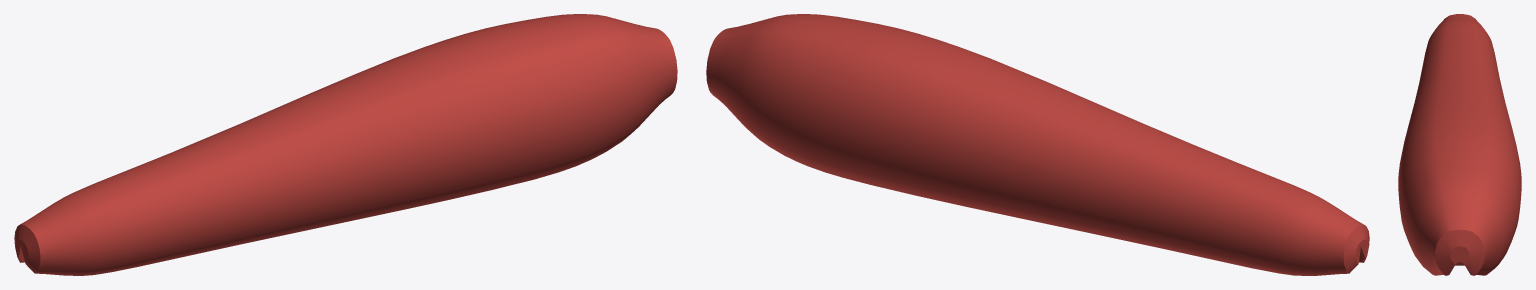
The model's file is chopper_2_lod2.glb.
3 renders of one model, left to right at view 1: azimuth 30°, elevation 25°; view 2: azimuth 150°, elevation 25°; view 3: azimuth 270°, elevation 25°, orthographic. The views are drawn at different scales.
Visible parts, largest first — view 1: chopper_2_lod2; view 2: chopper_2_lod2; view 3: chopper_2_lod2.
Part boxes in pixels (x1=…): chopper_2_lod2: x1=14, y1=14, x2=677, y2=275; chopper_2_lod2: x1=706, y1=14, x2=1369, y2=275; chopper_2_lod2: x1=1398, y1=14, x2=1521, y2=275.
Size of the model in its own units: 1.06 by 0.2032 by 0.2197.
